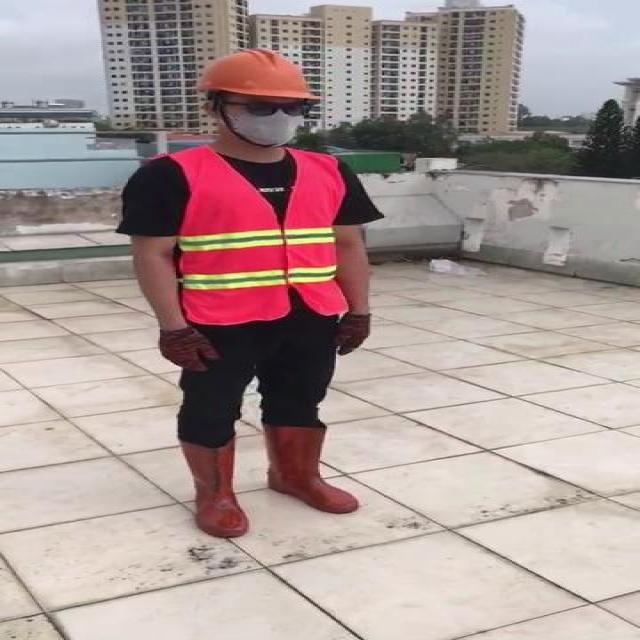boots: (263, 425, 357, 514), (183, 440, 247, 538)
face_mask: (228, 95, 318, 148)
glasses: (236, 95, 319, 121)
hand_glove: (160, 324, 220, 371), (329, 314, 373, 359)
head_helmet: (198, 45, 326, 102)
person: (104, 38, 385, 538)
vest: (172, 149, 354, 323)
